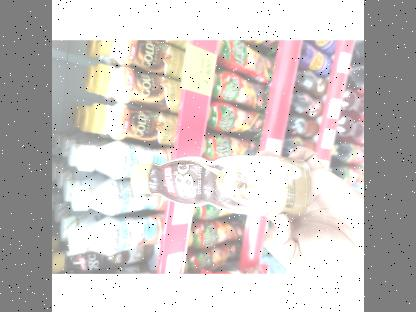Plastic Bottle: (122, 138, 320, 228)
